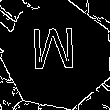M_S: (33, 30, 82, 81)
